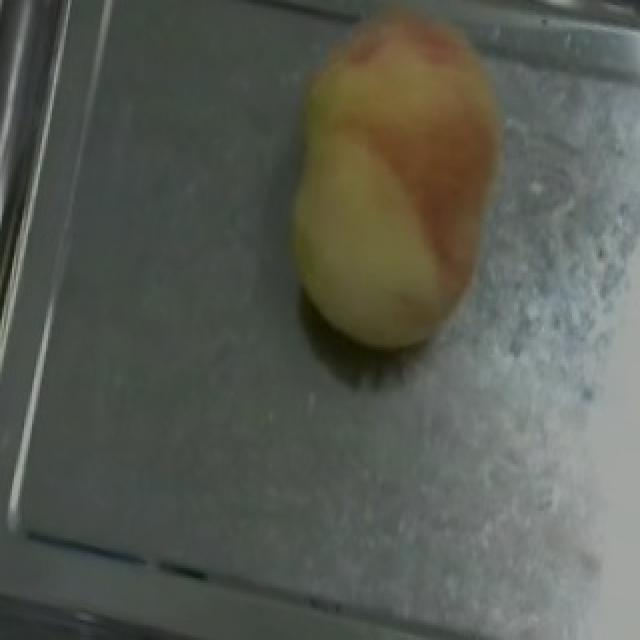Fruit: (254, 0, 546, 377)
